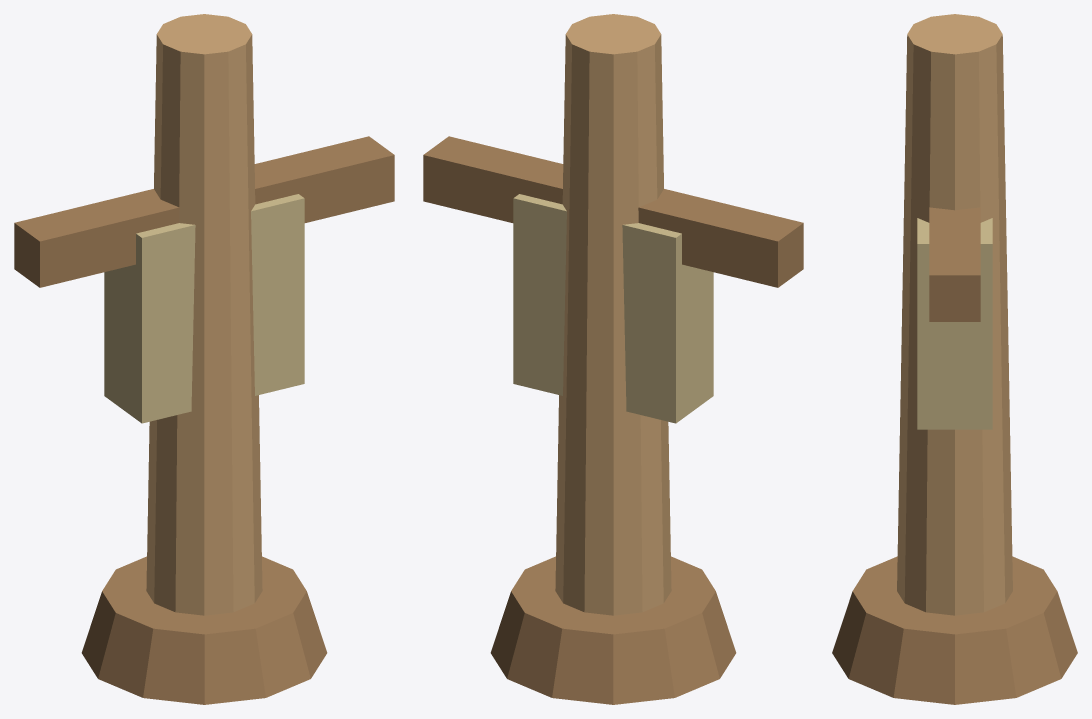
Rendered from training-pell.glb.
The picture shows the model from 3 angles, left to right: view 1: azimuth 30°, elevation 25°; view 2: azimuth 150°, elevation 25°; view 3: azimuth 270°, elevation 25°; orthographic projection.
Visible parts, largest first — view 1: training-pell; view 2: training-pell; view 3: training-pell.
Boxes of the visible parts, bbox=[...] form: training-pell: bbox=[14, 14, 394, 704]; training-pell: bbox=[423, 14, 803, 704]; training-pell: bbox=[832, 14, 1077, 704].
Size of the model in its own units: 1.2 by 2 by 0.72.
